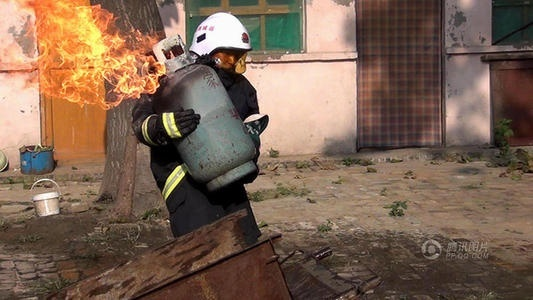fire: (8, 0, 165, 105)
